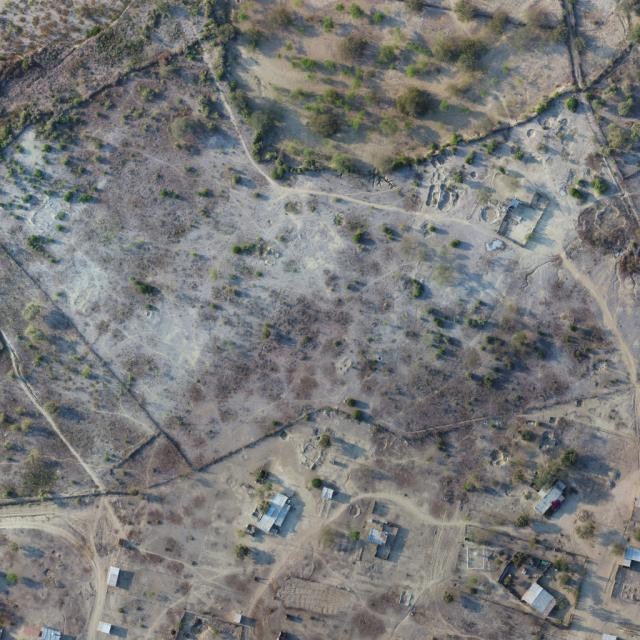building: (247, 485, 295, 538), (533, 479, 574, 521), (521, 582, 559, 618), (367, 528, 389, 547), (106, 566, 121, 588), (624, 546, 640, 561), (97, 621, 111, 634)
dryland: (0, 412, 600, 640)
greenland: (221, 70, 289, 163), (430, 32, 488, 73), (215, 23, 237, 81), (599, 119, 631, 152), (329, 149, 362, 179), (396, 87, 430, 116), (484, 7, 512, 38), (338, 35, 366, 61), (310, 113, 338, 138), (240, 24, 265, 51), (204, 0, 230, 25), (616, 97, 638, 119), (549, 23, 571, 43), (589, 175, 609, 196), (562, 94, 582, 114), (569, 35, 588, 54), (618, 78, 636, 96), (567, 185, 585, 202), (589, 95, 605, 111), (269, 166, 286, 181), (599, 146, 615, 158), (630, 122, 640, 141), (574, 176, 586, 189), (274, 155, 286, 168), (603, 84, 618, 94), (583, 91, 595, 103), (626, 144, 634, 152)
